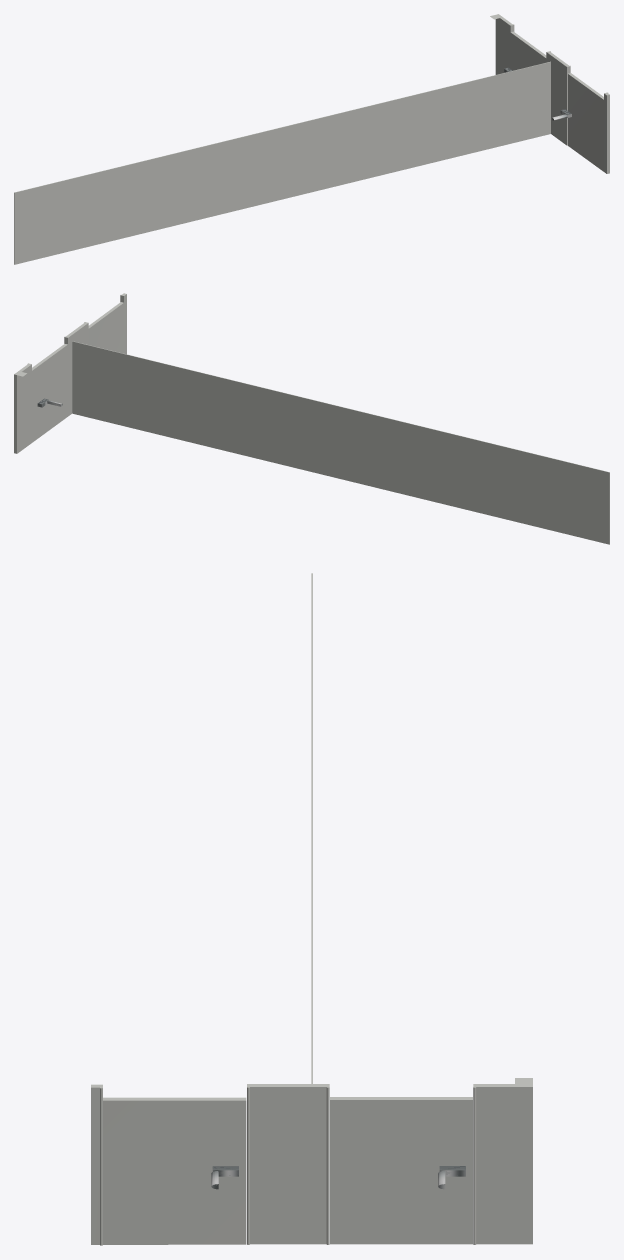
Rendered from DivisóriaBanheiroDuplo.fbx.
The picture shows the model from 3 angles, top to bottom: view 1: azimuth 30°, elevation 25°; view 2: azimuth 150°, elevation 25°; view 3: azimuth 270°, elevation 25°; orthographic projection. The views are drawn at different scales.
Parts seen in each view (by area): view 1: group_ 3.036, group_ 3.037, group_ 34.001, group_ 3.038, group_ 2.068, group_.134; view 2: group_ 3.036, group_ 3.038, group_ 2.068, group_ 3.037, group_ 34.001; view 3: group_ 3.037, group_ 3.038, group_ 34.001, group_ 2.068, group_.134, group_ 3.036.
Part boxes in pixels (x1,y1,x2,y2): group_ 3.036: (14, 61, 550, 264); group_ 3.037: (568, 73, 603, 171); group_ 34.001: (546, 51, 570, 145); group_ 3.038: (510, 31, 546, 70); group_ 2.068: (490, 14, 513, 74); group_.134: (604, 92, 609, 173); group_ 3.036: (72, 341, 609, 544); group_ 3.038: (32, 344, 67, 442); group_ 2.068: (14, 363, 31, 453); group_ 3.037: (88, 302, 123, 353); group_ 34.001: (65, 322, 88, 416); group_ 3.037: (103, 1097, 246, 1244); group_ 3.038: (330, 1097, 472, 1244); group_ 34.001: (247, 1084, 329, 1244); group_ 2.068: (473, 1078, 532, 1244); group_.134: (91, 1084, 102, 1244); group_ 3.036: (311, 573, 312, 1083).
Bounding box in the file's own units: 13.36 × 1.8 × 4.58.
Materials: 3 (2 with a texture image).
